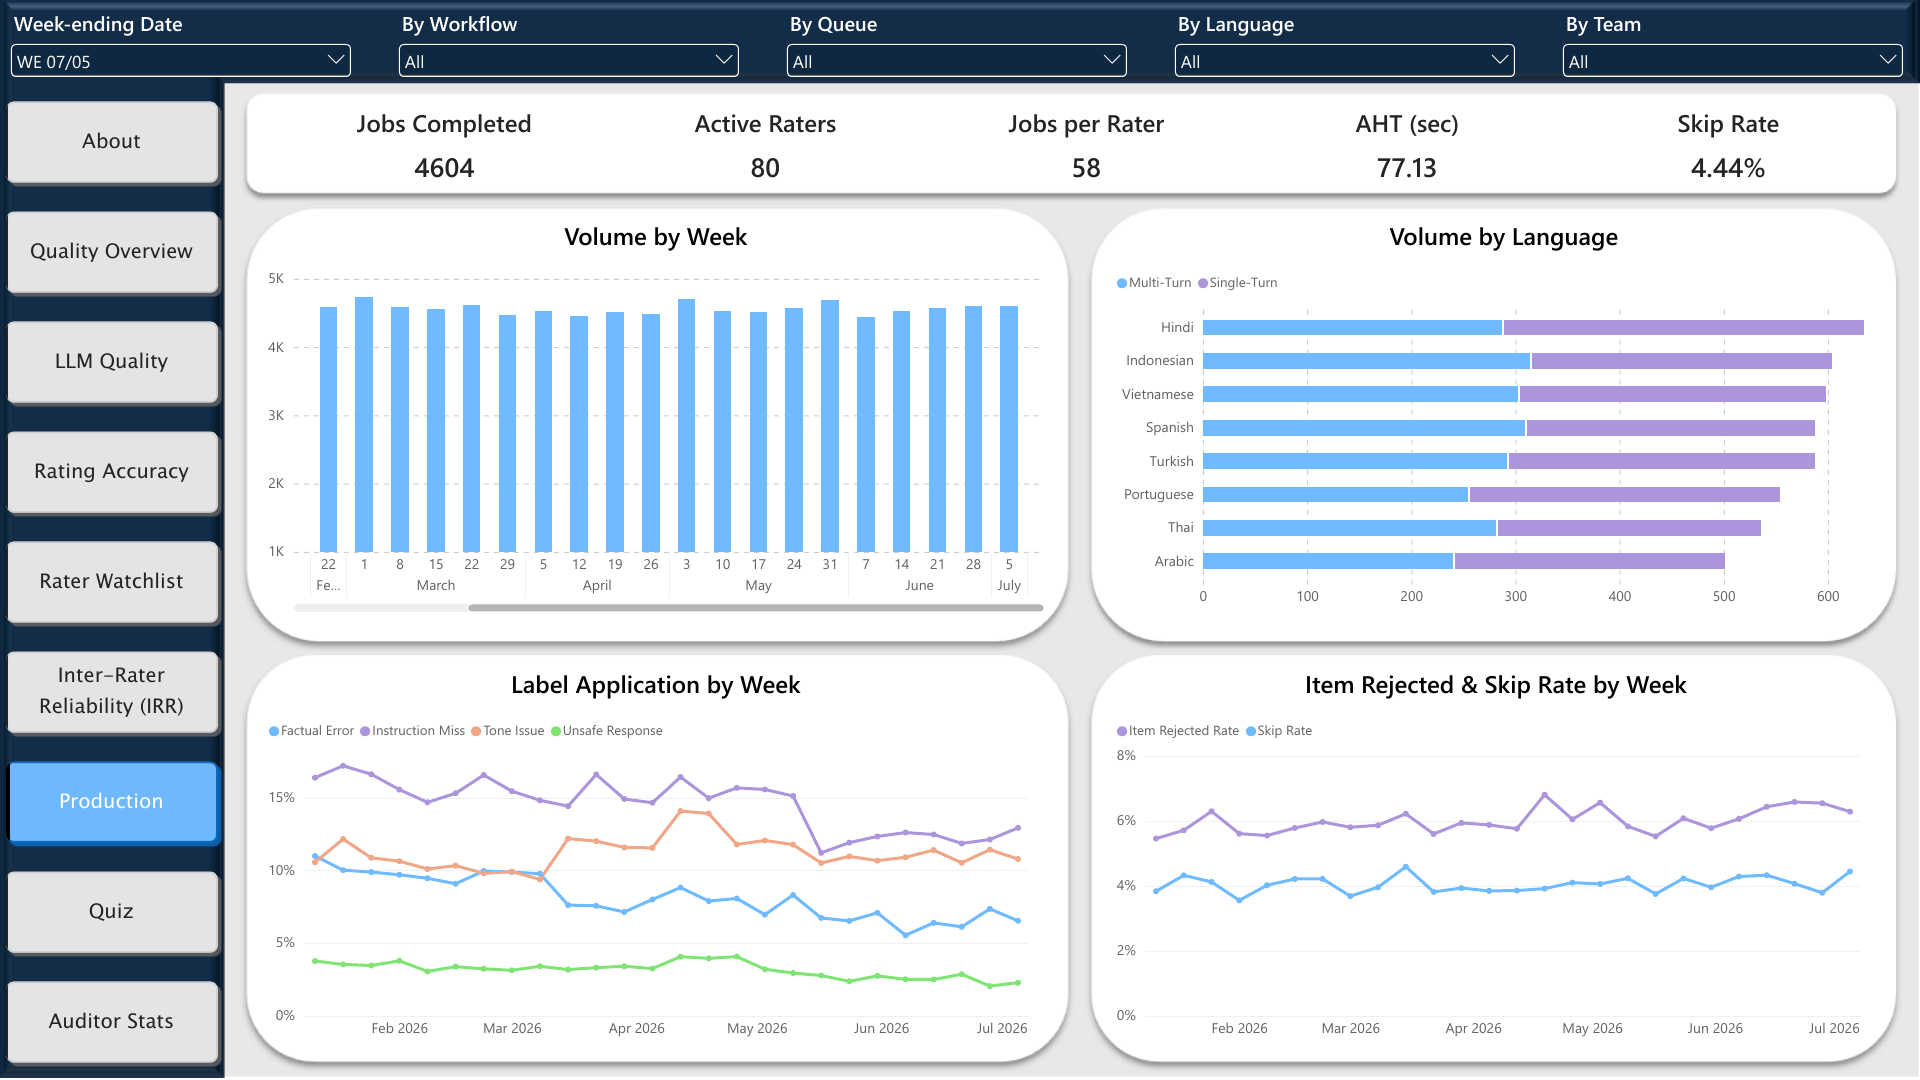

The dashboard page shown, as its layout file describes it:
{"tool":"powerbi","page":{"name":"Production","canvas":[1920,1080],"ordinal":6},"visuals":[{"type":"slicer","title":"By WE","fields":{"Values":["Dim_Date.week_label"]},"box":[6,9.8,350,80],"z":0,"group":"g1"},{"type":"clusteredColumnChart","title":"Volume by Week","fields":{"Category":["Dim_Date.week_end.Variation.Date Hierarchy.Month","Dim_Date.week_end.Variation.Date Hierarchy.Day"],"Y":["_Measures.Jobs Completed"]},"box":[256,208,800,416],"z":0},{"type":"slicer","fields":{"Values":["Dim_Rater.team"]},"box":[1558,9.8,350,80],"z":1000,"group":"g1"},{"type":"cardVisual","fields":{"Data":["_Measures.Jobs Completed","_Measures.Active Raters","_Measures.Jobs per Rater","_Measures.AHT (sec)","_Measures.Skip Rate"]},"box":[272,96,1632,112],"z":1000},{"type":"slicer","fields":{"Values":["Dim_Rater.language"]},"box":[1170,9.8,350,80],"z":2000,"group":"g1"},{"type":"barChart","title":"Volume by Language","fields":{"Category":["Dim_Queue.language"],"Series":["Dim_Queue.task_type"],"Y":["_Measures.Jobs Completed"]},"box":[1104,208,800,416],"z":2000},{"type":"slicer","fields":{"Values":["Dim_Queue.queue_id"]},"box":[782,9.8,350,80],"z":3000,"group":"g1"},{"type":"lineChart","title":"Label Application by Week","fields":{"Category":["Dim_Date.week_end"],"Series":["Dim_Label.label_display"],"Y":["_Measures.Label Applied Rate"]},"box":[256,656,800,400],"z":3000},{"type":"slicer","fields":{"Values":["Dim_Queue.workflow"]},"box":[394,9.8,350,80],"z":4000,"group":"g1"},{"type":"lineChart","title":"Item Rejected & Skip Rate by Week","fields":{"Category":["Dim_Date.week_end.Variation.Date Hierarchy.Year","Dim_Date.week_end.Variation.Date Hierarchy.Quarter","Dim_Date.week_end.Variation.Date Hierarchy.Month","Dim_Date.week_end.Variation.Date Hierarchy.Day"],"Y":["_Measures.Item Rejected Rate","_Measures.Skip Rate"]},"box":[1104,656,784,400],"z":4000},{"type":"group","id":"g1","title":"Group 4","box":[0,9.8,1908,1062.2],"z":5000},{"type":"pageNavigator","box":[0,96,224,976],"z":9000,"group":"g1"}]}

Visuals, with their boxes in screenshot pixels (x1, y1, x2, y2), scaled from the page's 1920x1080 canvas onto the 1920x1080 screenshot:
"By WE" slicer: [6,10,356,90]
"Volume by Week" clusteredColumnChart: [256,208,1056,624]
slicer - Dim_Rater.team: [1558,10,1908,90]
cardVisual - _Measures.Jobs Completed x _Measures.Active Raters: [272,96,1904,208]
slicer - Dim_Rater.language: [1170,10,1520,90]
"Volume by Language" barChart: [1104,208,1904,624]
slicer - Dim_Queue.queue_id: [782,10,1132,90]
"Label Application by Week" lineChart: [256,656,1056,1056]
slicer - Dim_Queue.workflow: [394,10,744,90]
"Item Rejected & Skip Rate by Week" lineChart: [1104,656,1888,1056]
"Group 4" group: [0,10,1908,1072]
pageNavigator: [0,96,224,1072]
